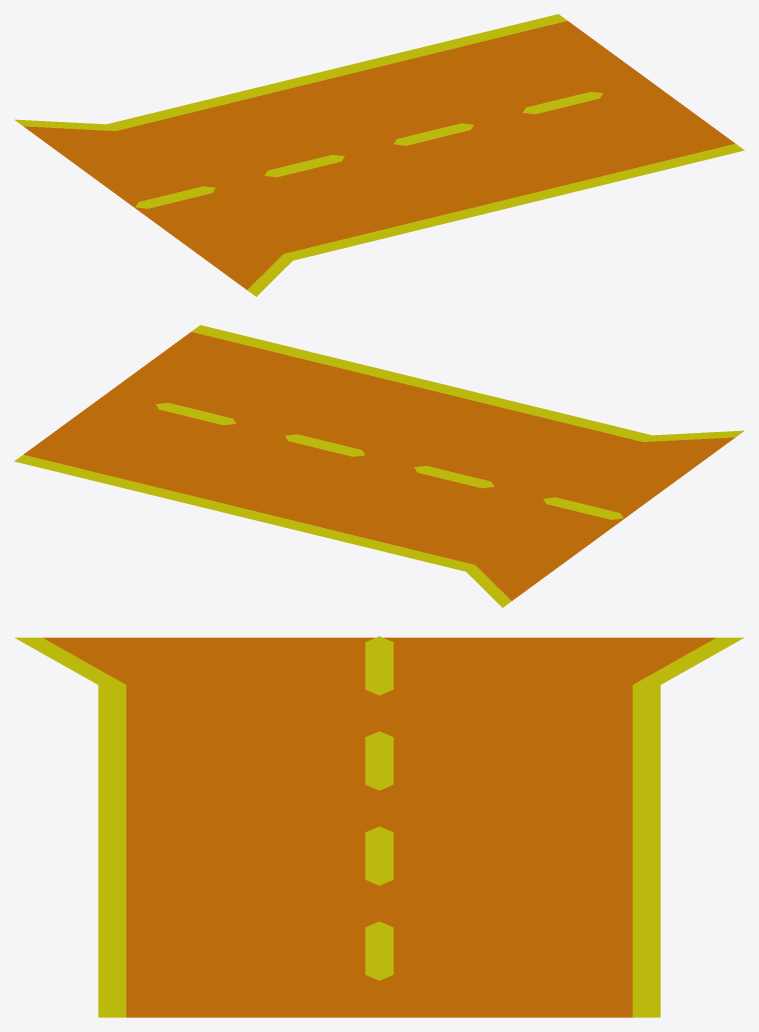
File: Mesh_road_reducing.fbx
3 renders of one model, top to bottom at view 1: azimuth 30°, elevation 25°; view 2: azimuth 150°, elevation 25°; view 3: azimuth 270°, elevation 25°, orthographic. The views are drawn at different scales.
Visible parts, largest first — view 1: Mesh_road_reducing; view 2: Mesh_road_reducing; view 3: Mesh_road_reducing.
Part boxes in pixels (box(x1,y1,x2,y2)): Mesh_road_reducing: box(14, 14, 744, 296); Mesh_road_reducing: box(14, 325, 744, 607); Mesh_road_reducing: box(15, 636, 743, 1017).
Size of what is drawn, in the model's own units: 1600 by 2.5 by 1300.
